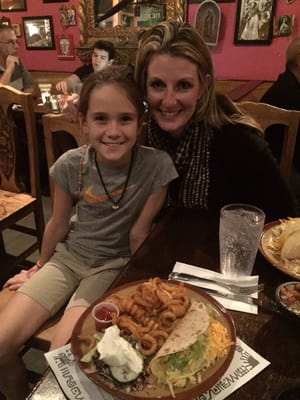pizza: (218, 203, 266, 278)
sandwich: (169, 272, 260, 302)
